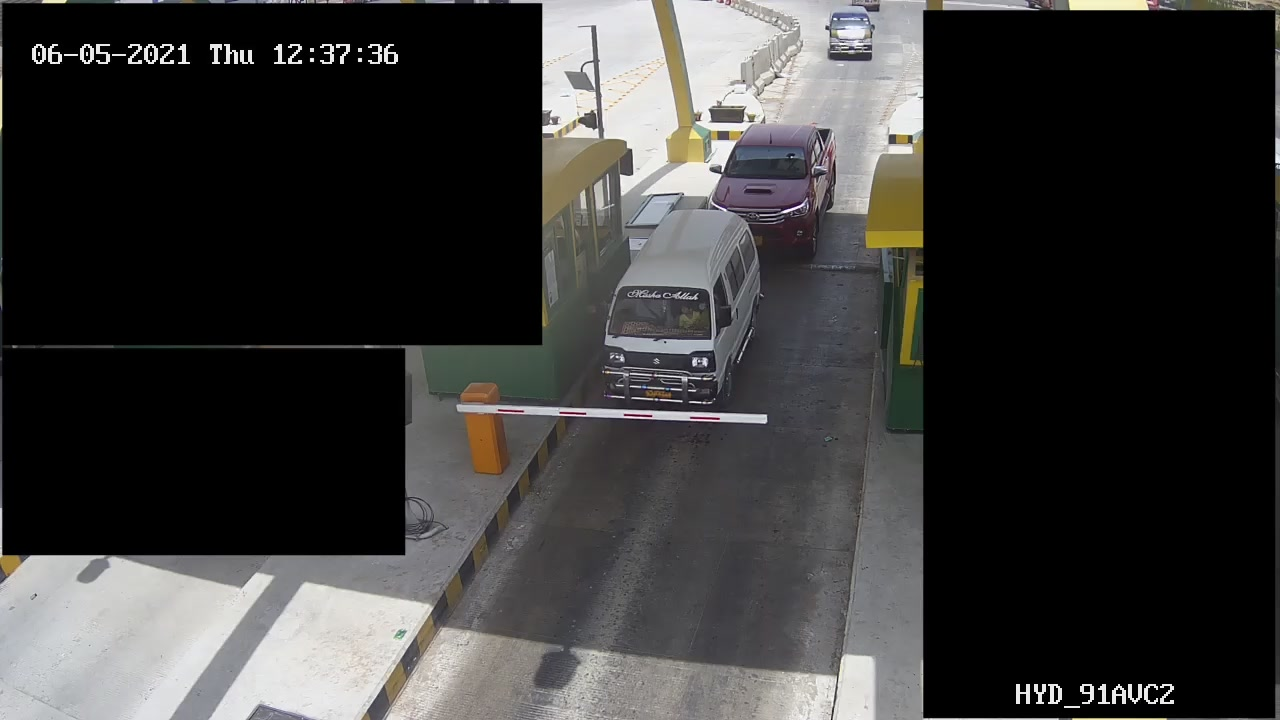F1: (592, 205, 772, 409), (701, 113, 844, 254)
